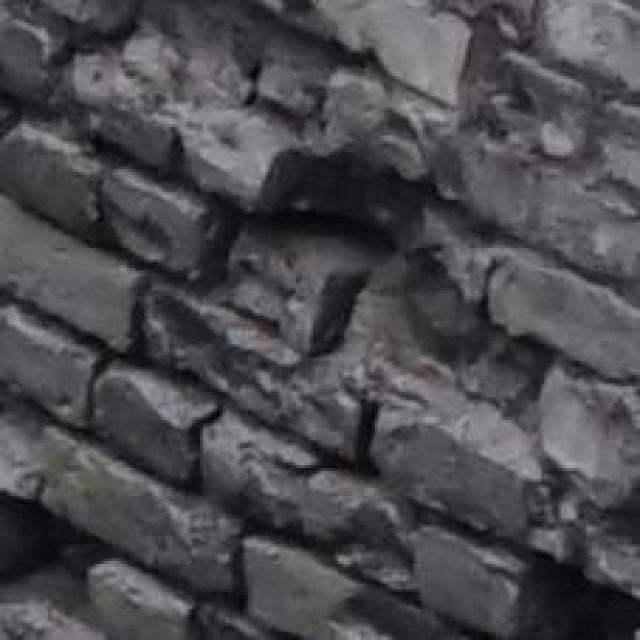Crack: (121, 0, 601, 434)
